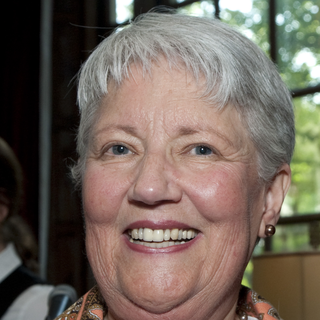eye: (177, 139, 225, 163), (97, 139, 142, 163)
